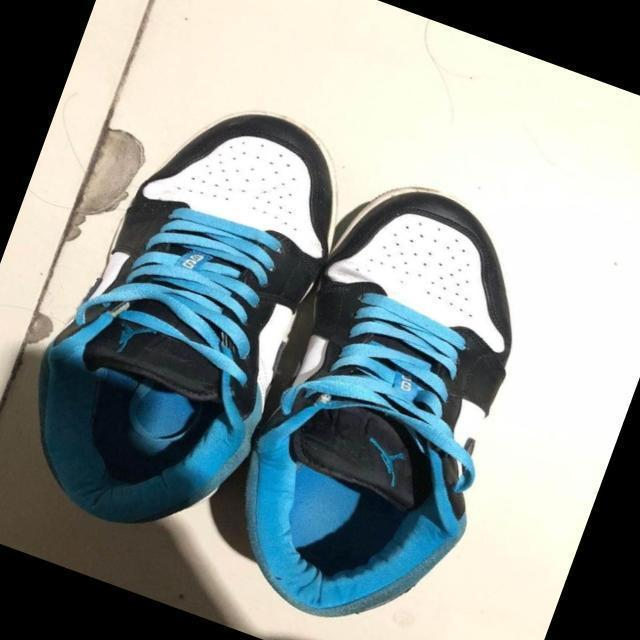nike fake jordan 1: (0, 66, 382, 566), (200, 159, 575, 640)
